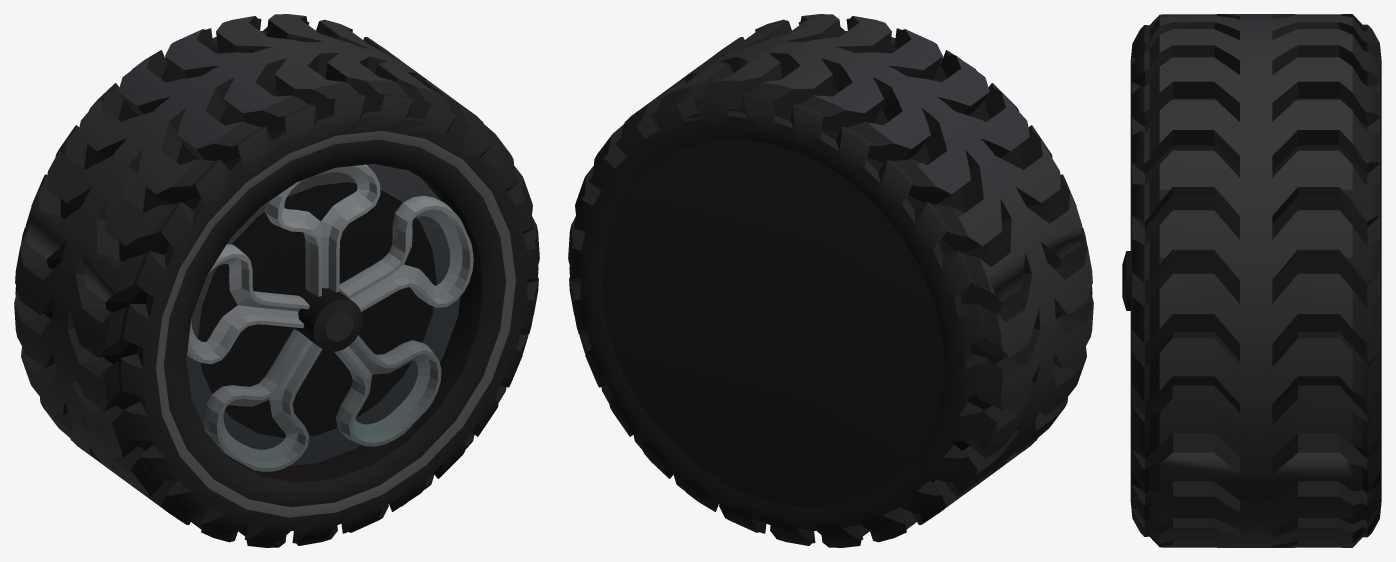
The model's file is wheel_10.fbx.
The picture shows the model from 3 angles, left to right: view 1: azimuth 30°, elevation 25°; view 2: azimuth 150°, elevation 25°; view 3: azimuth 270°, elevation 25°; orthographic projection. The views are drawn at different scales.
Visible parts, largest first — view 1: wheel_10; view 2: wheel_10; view 3: wheel_10.
Part boxes in pixels (x1=…): wheel_10: x1=14, y1=14, x2=539, y2=547; wheel_10: x1=568, y1=14, x2=1093, y2=547; wheel_10: x1=1122, y1=14, x2=1381, y2=547.
Bounding box in the file's own units: 138 × 138 × 66.78.
